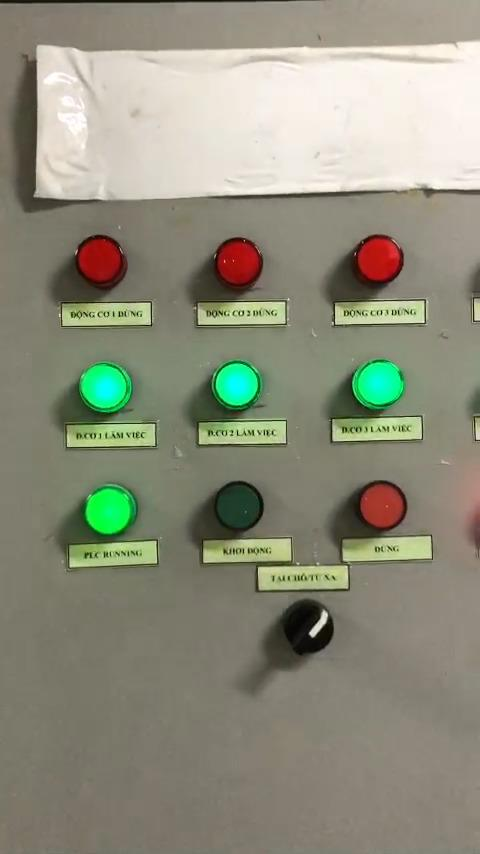led: (72, 229, 134, 291), (72, 358, 134, 419), (210, 235, 271, 296), (349, 476, 413, 534), (349, 355, 409, 415), (350, 232, 409, 290), (210, 357, 268, 416), (208, 476, 266, 534), (82, 480, 140, 538)
twist: (279, 596, 339, 659)
